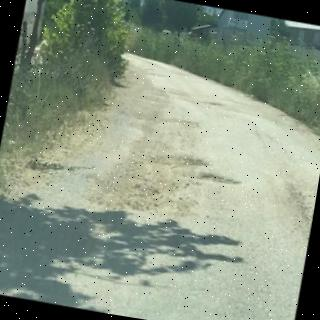pothole: (98, 118, 240, 218)
